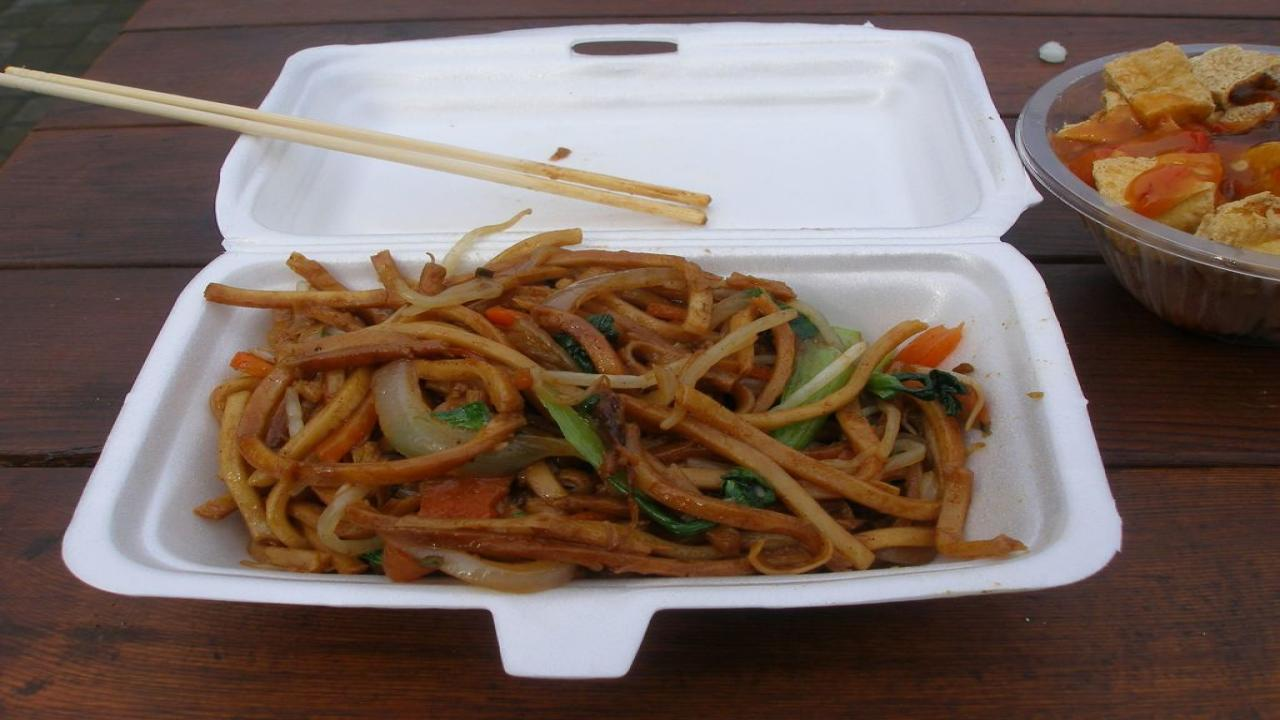chopstick: (0, 73, 706, 225)
